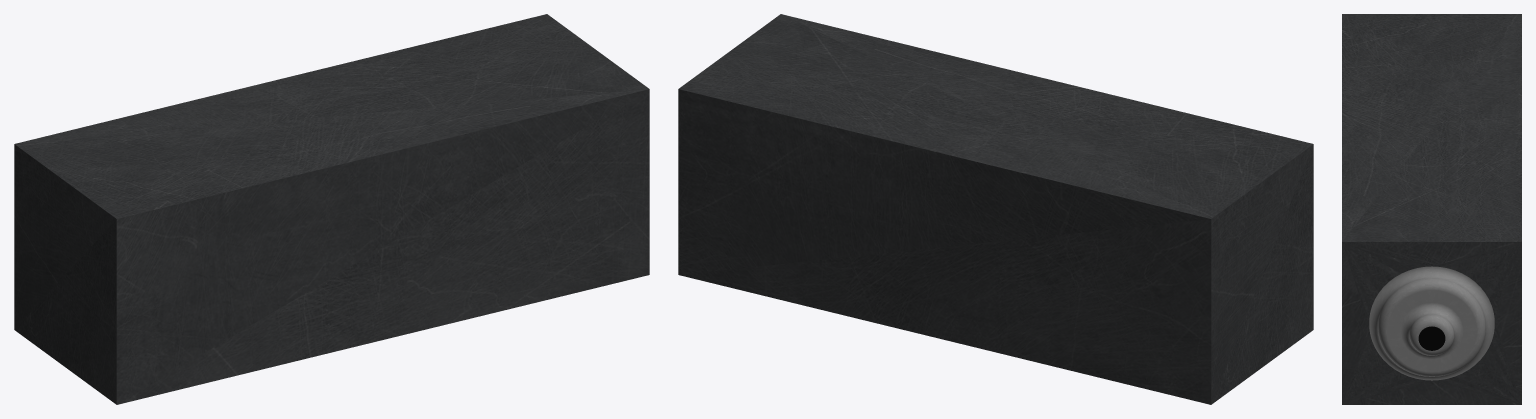
Rendered from distance_sensor.glb.
3 views of the same model, side by side, from view 1: azimuth 30°, elevation 25°; view 2: azimuth 150°, elevation 25°; view 3: azimuth 270°, elevation 25° (orthographic). The views are drawn at different scales.
Parts seen in each view (by area): view 1: distance_design.SLDPRT; view 2: distance_design.SLDPRT; view 3: distance_design.SLDPRT.
Part boxes in pixels (x1,y1,x2,y2): distance_design.SLDPRT: (14, 14, 649, 404); distance_design.SLDPRT: (678, 14, 1313, 404); distance_design.SLDPRT: (1342, 14, 1521, 404).
Size of the model in its own units: 0.032 by 0.01 by 0.01.
3 materials, 3 textured.
